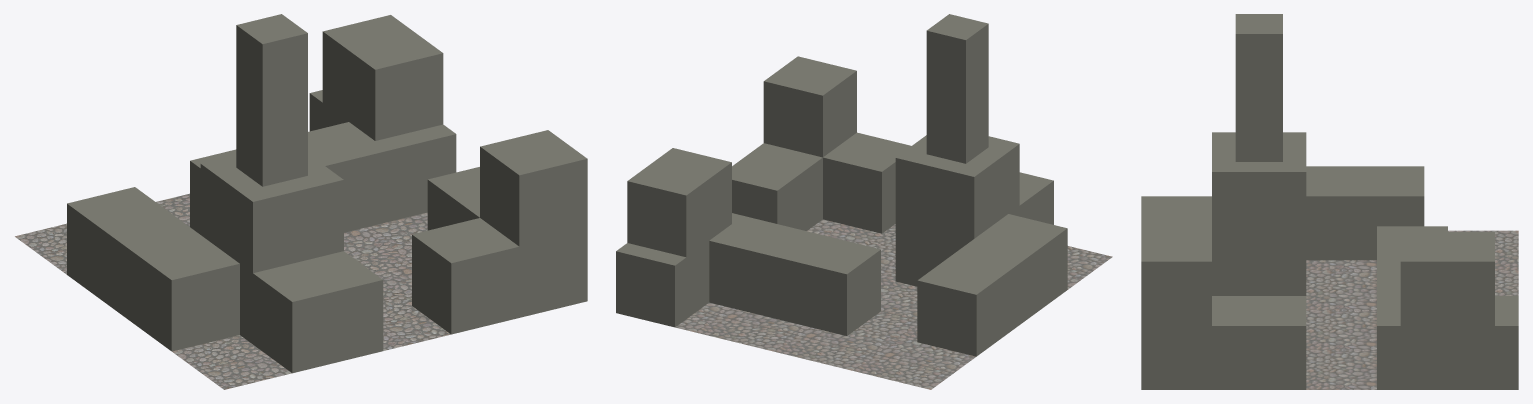
Rendered from tile3.fbx.
3 views of the same model, side by side, from view 1: azimuth 30°, elevation 25°; view 2: azimuth 150°, elevation 25°; view 3: azimuth 270°, elevation 25° (orthographic). The views are drawn at different scales.
Visible parts, largest first — view 1: Tile1; view 2: Tile1; view 3: Tile1.
Part boxes in pixels (bbox=[...]): Tile1: bbox=[15, 14, 587, 389]; Tile1: bbox=[616, 14, 1112, 389]; Tile1: bbox=[1141, 14, 1518, 389].
Bounding box in the file's own units: 1600 × 1200 × 1600.
